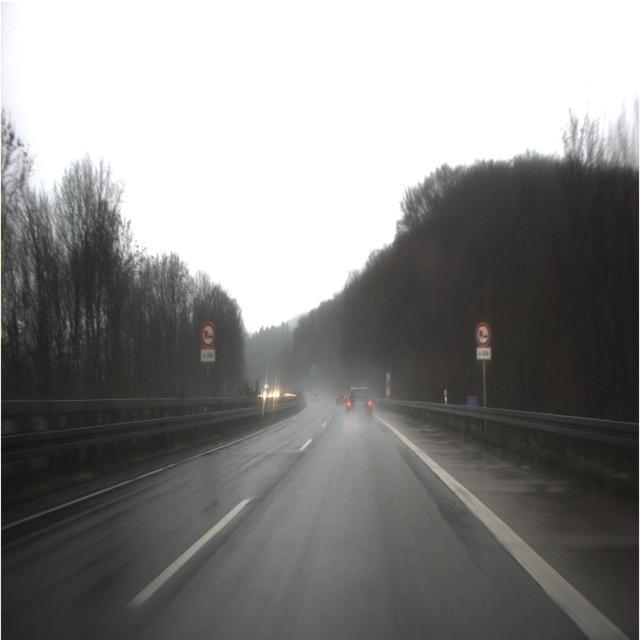forb_overtake_trucks: (200, 321, 216, 348), (475, 321, 491, 347)
